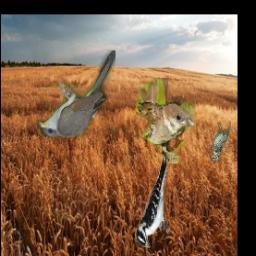Cuckoo: (38, 50, 116, 137)
Sparrow: (136, 79, 195, 164), (211, 119, 231, 162)
Woodpecker: (135, 155, 170, 249)
